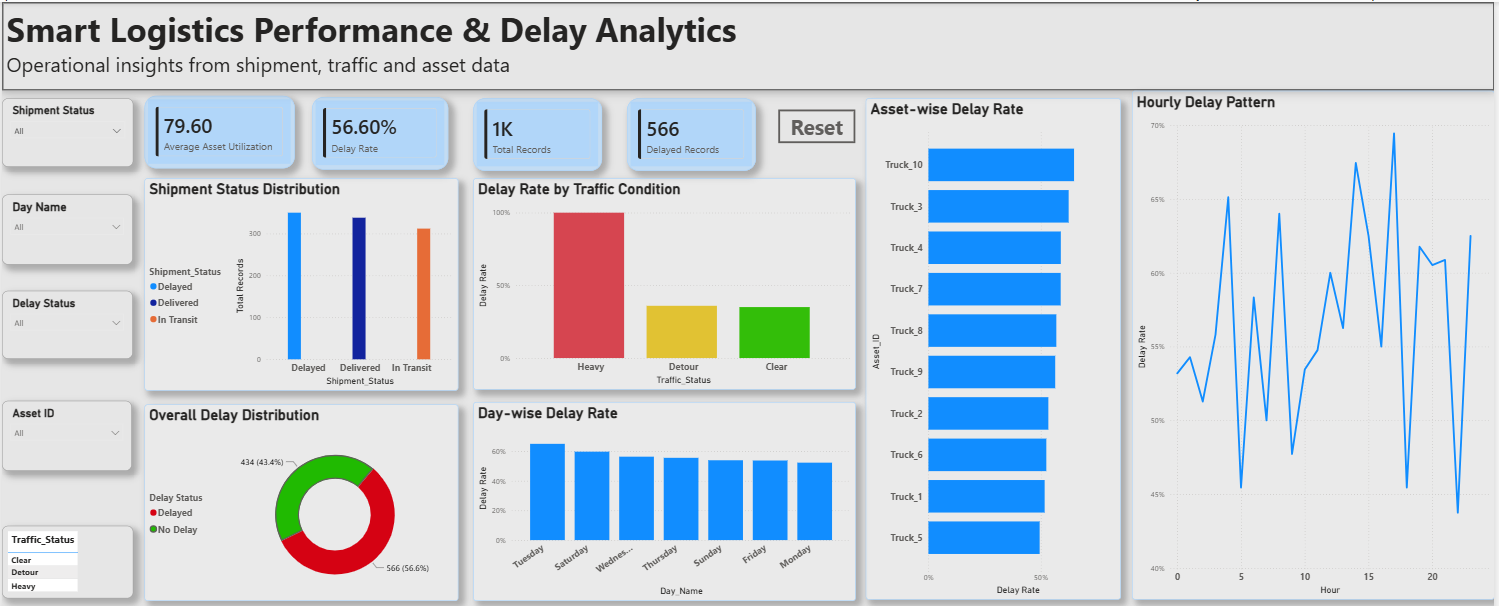

Layout of this report page (visuals, bound fields, positions):
{"tool":"powerbi","page":{"name":"Page 1","canvas":[2400,1200],"ordinal":0},"visuals":[{"type":"cardVisual","fields":{"Data":["Logistics_Data.Total Records"]},"box":[758,154.8,207.1,116.6],"z":0},{"type":"cardVisual","fields":{"Data":["Logistics_Data.Delayed Records"]},"box":[1005.4,154.8,207.1,116.6],"z":1000},{"type":"cardVisual","fields":{"Data":["Logistics_Data.Delay Rate"]},"box":[498.7,152.8,219.2,116.6],"z":2000},{"type":"cardVisual","fields":{"Data":["Logistics_Data.Average Asset Utilization"]},"box":[229.2,150.8,241.3,116.6],"z":3000},{"type":"textbox","box":[0,0,2400.8,142.8],"z":4000},{"type":"clusteredColumnChart","title":"Shipment Status Distribution","fields":{"Category":["Logistics_Data.Shipment_Status"],"Series":["Logistics_Data.Shipment_Status"],"Y":["Logistics_Data.Total Records"]},"box":[229.2,283.5,504.7,341.8],"z":5000},{"type":"clusteredBarChart","title":"Asset-wise Delay Rate","fields":{"Category":["Logistics_Data.Asset_ID"],"Y":["Logistics_Data.Delay Rate"]},"box":[1389.4,154.8,410.2,806.3],"z":6000},{"type":"lineChart","title":"Hourly Delay Pattern","fields":{"Y":["Logistics_Data.Delay Rate"],"Category":["Logistics_Data.Hour"]},"box":[1816.9,142.8,583.1,818.4],"z":7000},{"type":"slicer","fields":{"Values":["Logistics_Data.Shipment_Status"]},"box":[0,154.8,211.1,110.6],"z":8000},{"type":"tableEx","fields":{"Values":["Logistics_Data.Traffic_Status"]},"box":[0,842.5,211.1,116.6],"z":9000},{"type":"slicer","fields":{"Values":["Logistics_Data.Asset_ID"]},"box":[0,641.5,208.5,113],"z":10000},{"type":"slicer","fields":{"Values":["Logistics_Data.Day_Name"]},"box":[0,310.4,210.1,113],"z":11000},{"type":"slicer","fields":{"Values":["Logistics_Data.Delay_Status"]},"box":[0,464.5,210.1,109.8],"z":12000},{"type":"donutChart","title":"Overall Delay Distribution","fields":{"Category":["Logistics_Data.Delay_Status"],"Y":["Logistics_Data.Total Records"]},"box":[229.2,647.5,504.7,315.7],"z":13000},{"type":"clusteredColumnChart","title":"Day-wise Delay Rate","fields":{"Category":["Logistics_Data.Day_Name"],"Y":["Logistics_Data.Delay Rate"]},"box":[758,643.4,615.3,319.7],"z":14000},{"type":"actionButton","box":[1249.6,173.5,124.2,54.1],"z":14001},{"type":"columnChart","title":"Delay Rate by Traffic Condition","fields":{"Category":["Logistics_Data.Traffic_Status"],"Y":["Logistics_Data.Delay Rate"]},"box":[758,283.5,615.3,339.8],"z":14002}]}

Visuals, with their boxes in screenshot pixels (x1, y1, x2, y2):
cardVisual - Logistics_Data.Total Records: 617/31/717/87
cardVisual - Logistics_Data.Delayed Records: 736/31/835/87
cardVisual - Logistics_Data.Delay Rate: 493/30/598/86
cardVisual - Logistics_Data.Average Asset Utilization: 364/29/479/85
textbox: 254/0/1405/26
"Shipment Status Distribution" clusteredColumnChart: 364/93/606/257
"Asset-wise Delay Rate" clusteredBarChart: 920/31/1117/418
"Hourly Delay Pattern" lineChart: 1125/26/1405/418
slicer - Logistics_Data.Shipment_Status: 254/31/355/84
tableEx - Logistics_Data.Traffic_Status: 254/361/355/417
slicer - Logistics_Data.Asset_ID: 254/265/354/319
slicer - Logistics_Data.Day_Name: 254/106/355/160
slicer - Logistics_Data.Delay_Status: 254/180/355/233
"Overall Delay Distribution" donutChart: 364/268/606/419
"Day-wise Delay Rate" clusteredColumnChart: 617/266/912/419
actionButton: 853/40/913/66
"Delay Rate by Traffic Condition" columnChart: 617/93/912/256
